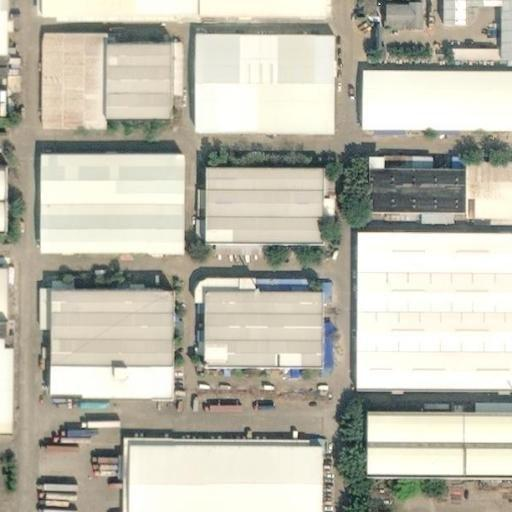building: (115, 435, 310, 512), (186, 29, 323, 128), (350, 67, 512, 127), (193, 284, 311, 361), (194, 160, 312, 236), (33, 148, 173, 199), (345, 227, 512, 269), (33, 199, 173, 247), (345, 269, 512, 308), (33, 28, 99, 126), (344, 346, 512, 384), (345, 308, 512, 346), (42, 284, 161, 333), (99, 35, 163, 111), (357, 163, 454, 206), (42, 358, 160, 390), (454, 157, 512, 215), (356, 403, 451, 436), (42, 333, 161, 358), (356, 436, 452, 463), (451, 403, 512, 436), (452, 436, 512, 463), (0, 333, 14, 429), (490, 0, 512, 55), (182, 273, 227, 298), (0, 160, 11, 229), (0, 263, 12, 318), (163, 42, 174, 98), (439, 48, 490, 59), (91, 454, 115, 477), (409, 206, 443, 222), (454, 215, 512, 224), (376, 0, 398, 23), (1, 50, 12, 94), (311, 321, 322, 362), (374, 153, 419, 163), (398, 0, 415, 26), (247, 276, 298, 284), (373, 206, 404, 218), (184, 329, 193, 362), (312, 194, 322, 215), (357, 151, 374, 163), (350, 0, 365, 13), (312, 176, 322, 194), (227, 272, 242, 284), (362, 127, 392, 133), (311, 282, 320, 300), (310, 477, 319, 494), (180, 318, 193, 329), (426, 127, 446, 133), (186, 298, 193, 313)
